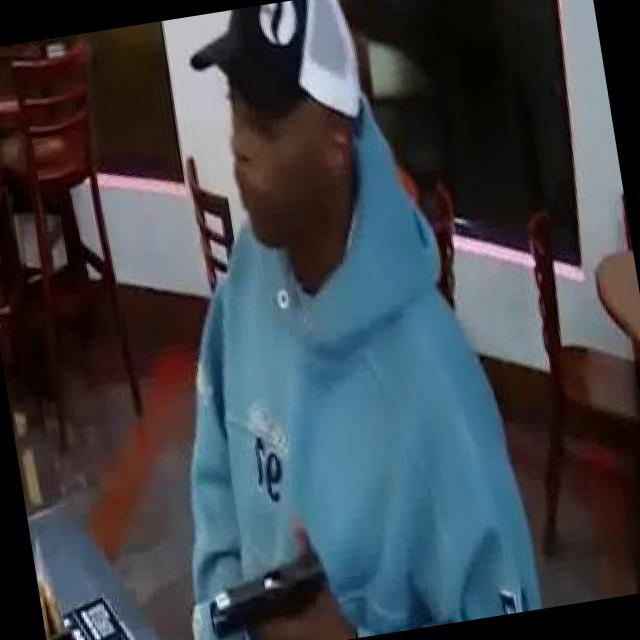Guns: (185, 519, 346, 640)
